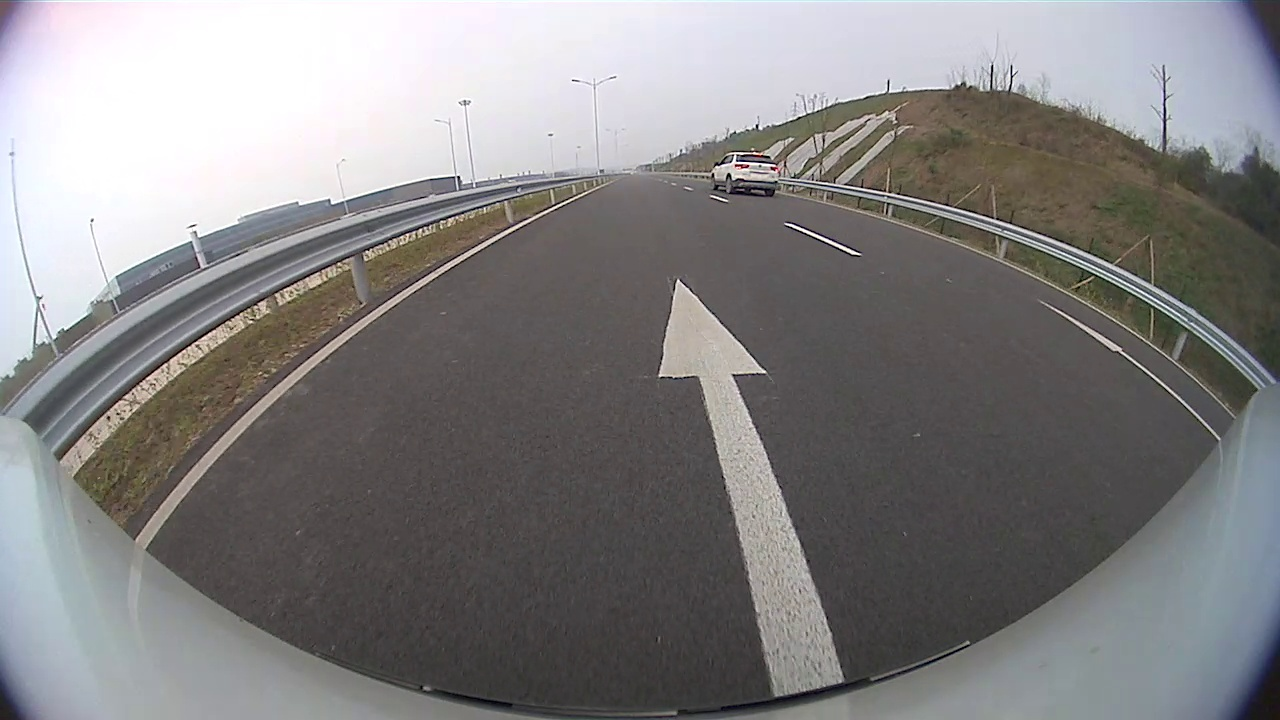car: (709, 151, 779, 197)
rear: (724, 175, 734, 194)
